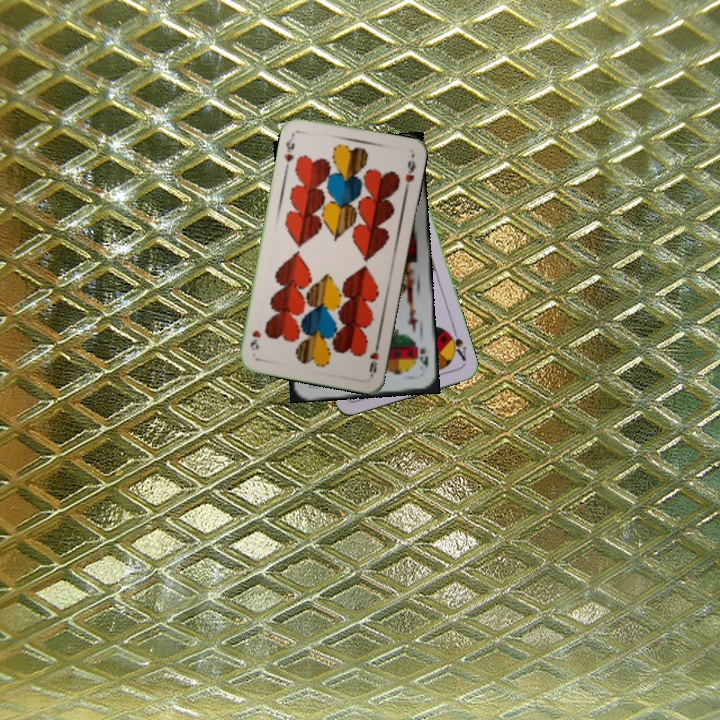H9: (280, 130, 297, 171), (365, 338, 382, 378)
SA: (443, 325, 469, 364)
SK: (416, 344, 431, 369)
